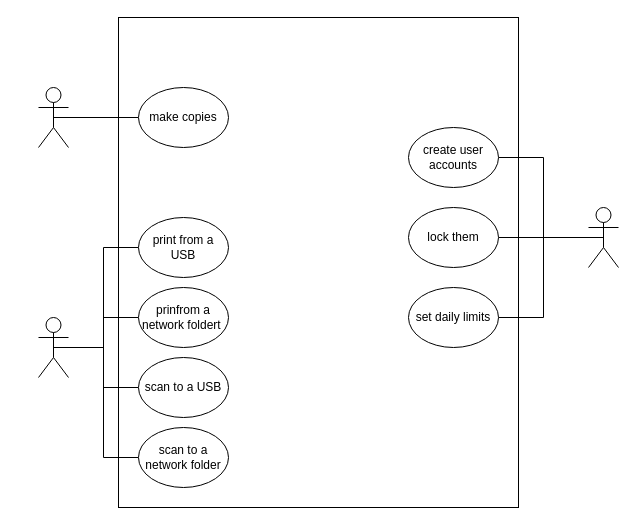
Some shapes in this 637 by 525 pixel diagram are drawn without their labels. Here are the shapes that lost their labels. From the top down, the centre of each, then its label:
pixel 53 117: no log in user
pixel 603 237: Admin
pixel 53 347: User
